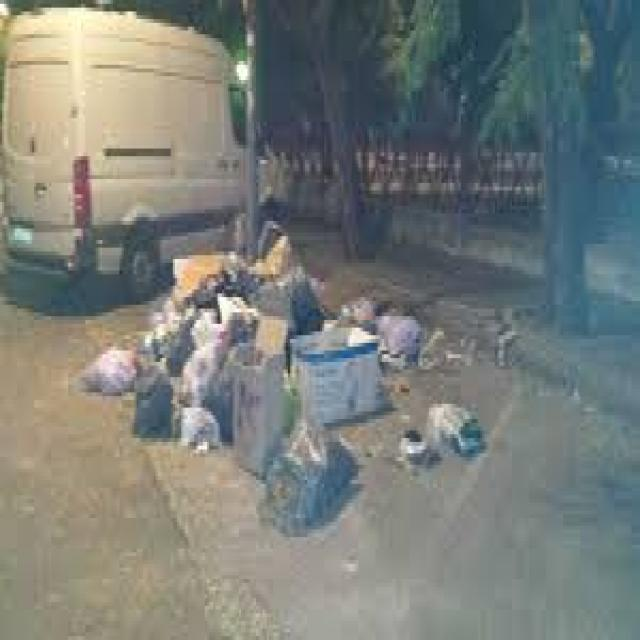garbage: (67, 244, 487, 506)
